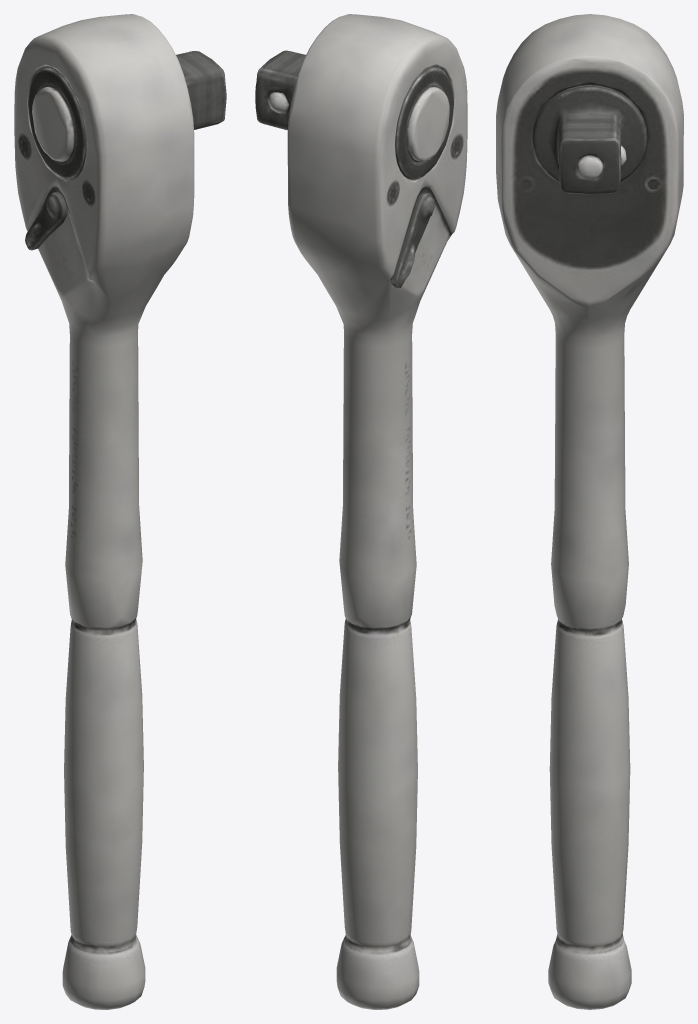
Rendered from ratchet_wrench.glb.
The picture shows the model from 3 angles, left to right: view 1: azimuth 30°, elevation 25°; view 2: azimuth 150°, elevation 25°; view 3: azimuth 270°, elevation 25°; orthographic projection.
Visible parts, largest first — view 1: ratchet_wrench; view 2: ratchet_wrench; view 3: ratchet_wrench.
Boxes of the visible parts, left/top/right/bottom form: ratchet_wrench: left=14, top=14, right=226, bottom=1009; ratchet_wrench: left=255, top=14, right=467, bottom=1009; ratchet_wrench: left=496, top=14, right=683, bottom=1009.
Size of the model in its own units: 0.0439 by 0.2461 by 0.0433.
1 material, 1 textured.
